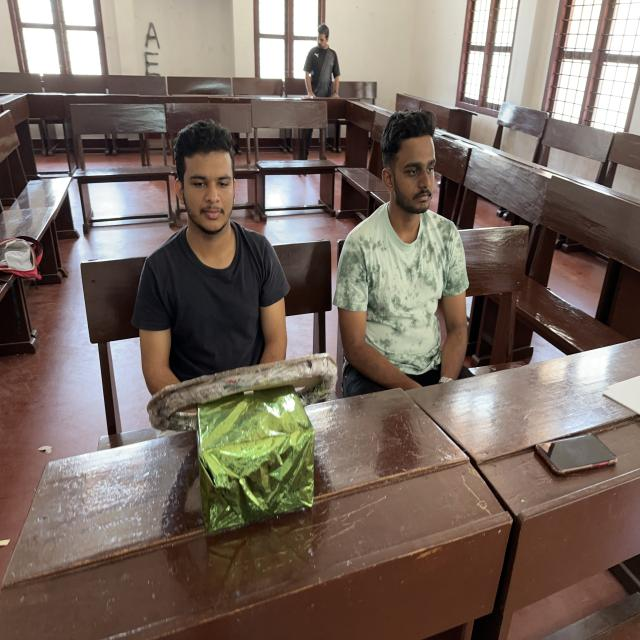no-seatbelt: (132, 230, 295, 428), (329, 213, 475, 416)
